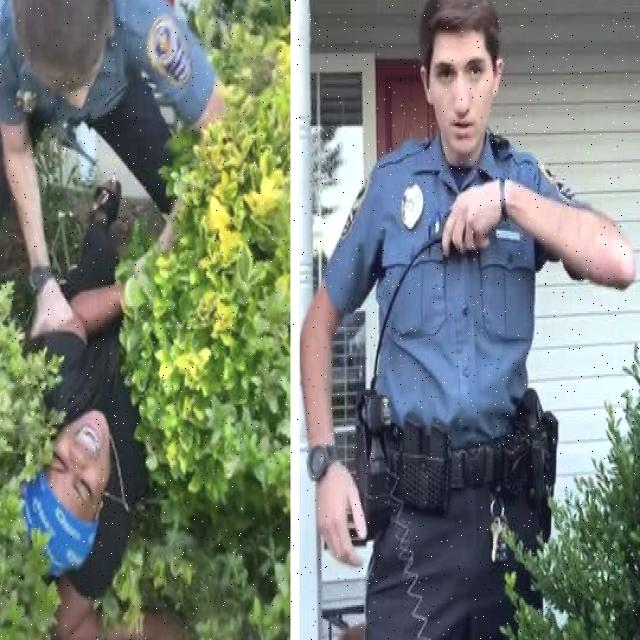police: (318, 0, 640, 640), (0, 0, 235, 334)
